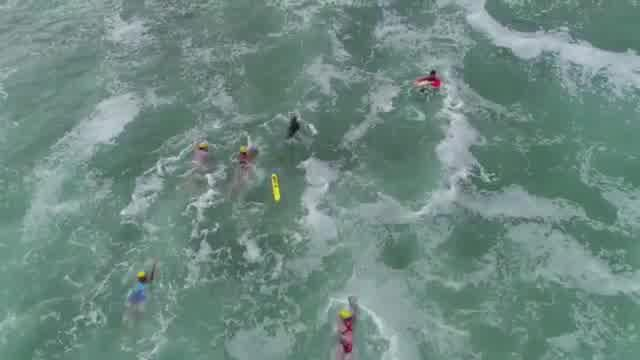swimmer: (122, 271, 162, 307), (338, 306, 362, 357), (190, 143, 213, 172), (418, 68, 434, 102)
